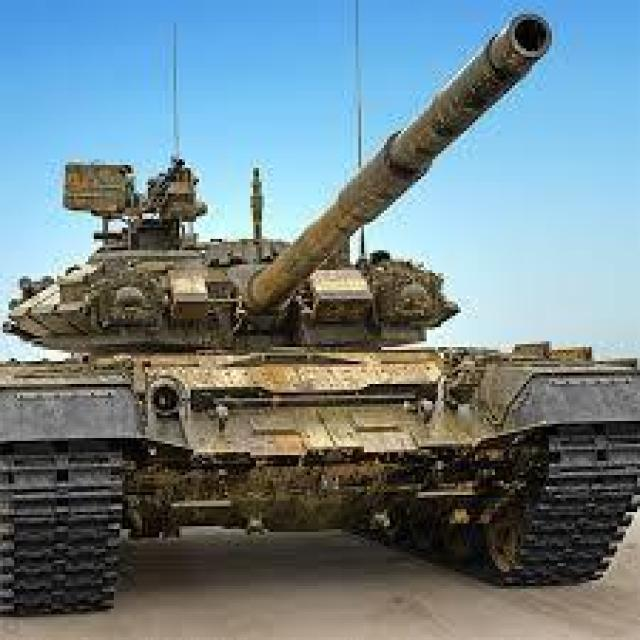Tanks: (4, 21, 639, 630)
